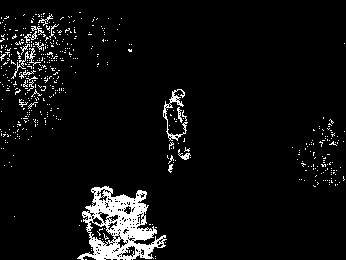person: (161, 87, 194, 176)
